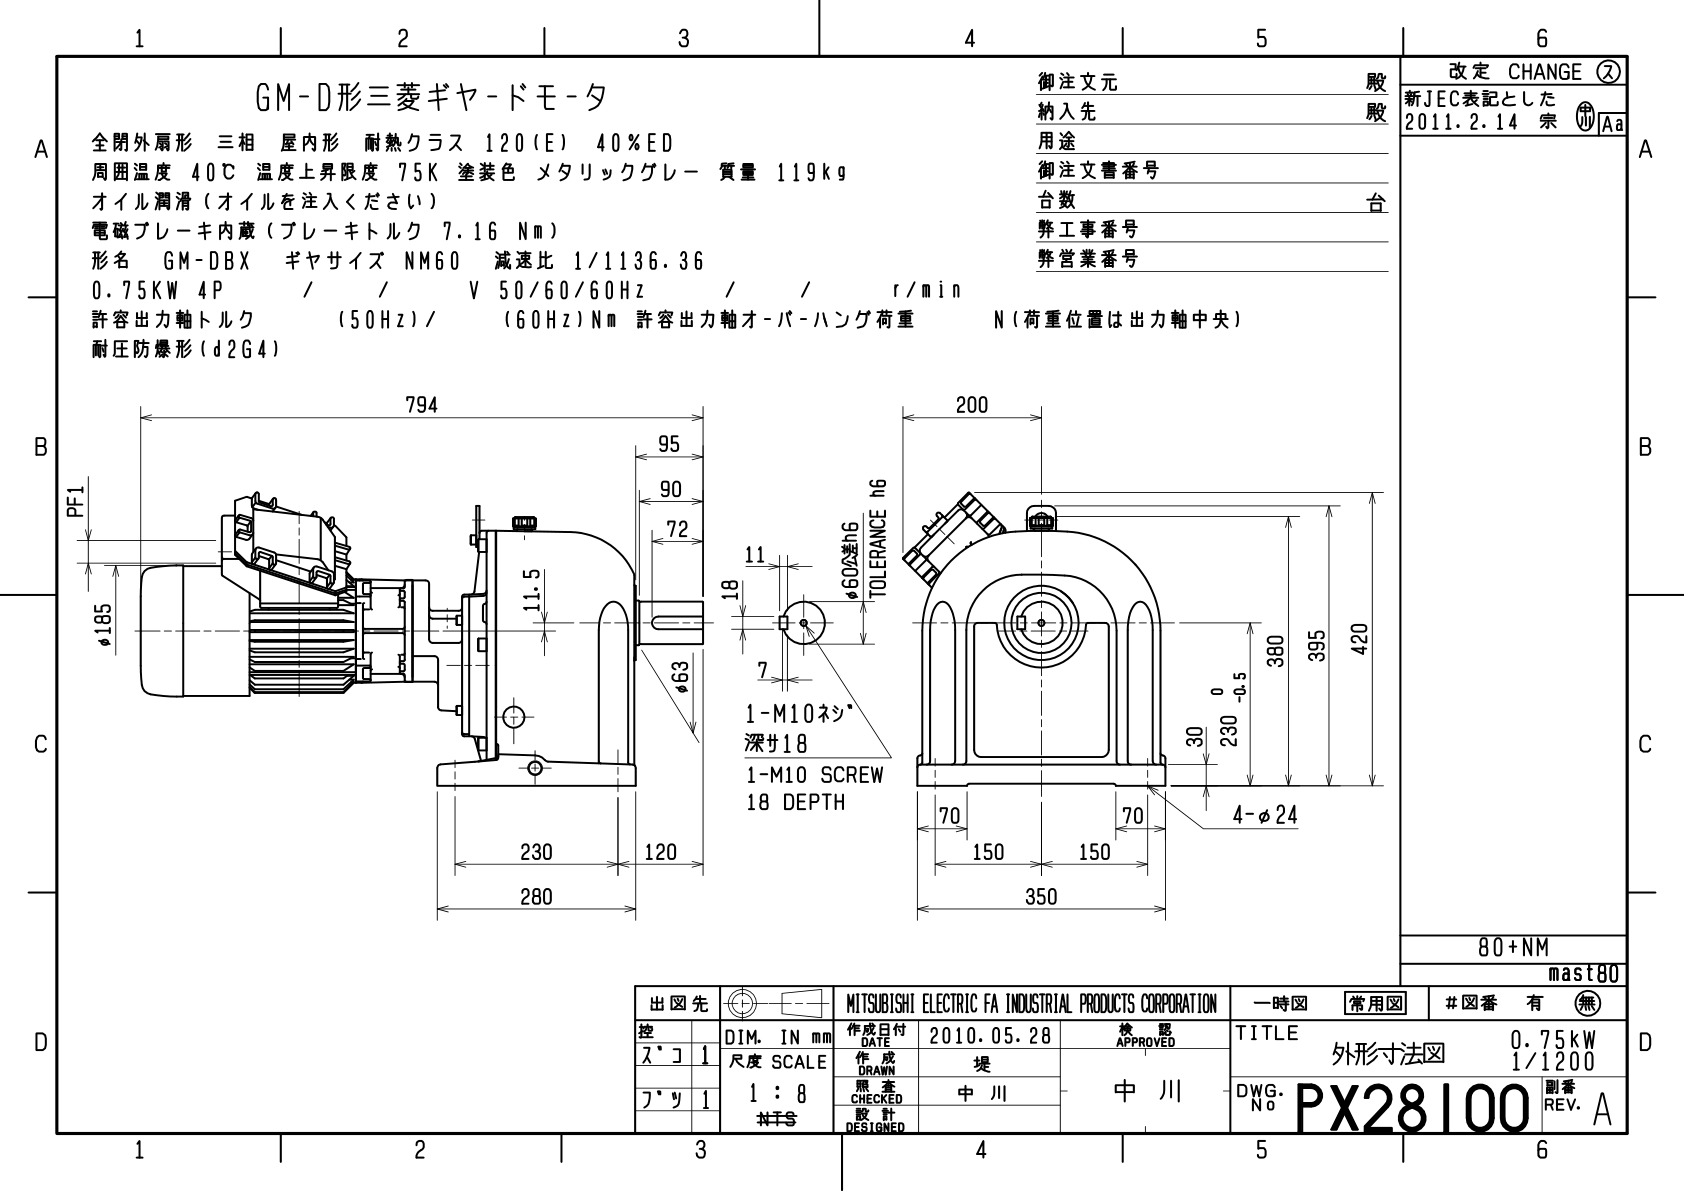GM_D_耐圧屋内_三相_脚: (58, 394, 1397, 959)
